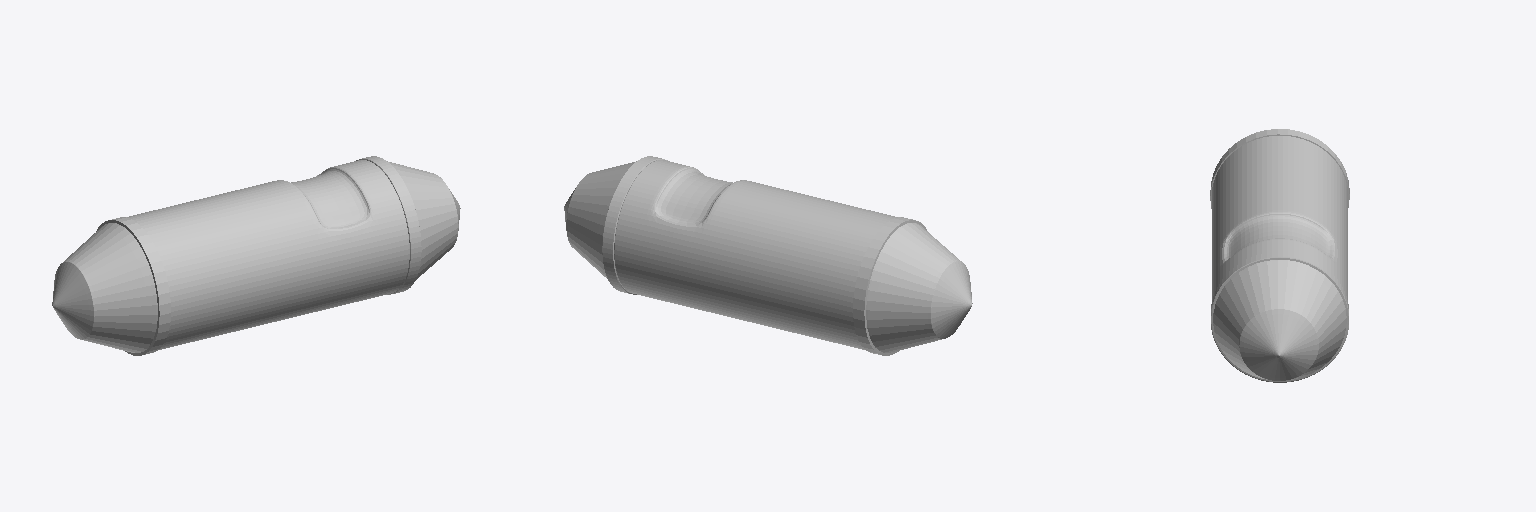
The model's file is pencil-04.obj.
3 views of the same model, side by side, from view 1: azimuth 30°, elevation 25°; view 2: azimuth 150°, elevation 25°; view 3: azimuth 270°, elevation 25° (orthographic).
Visible parts, largest first — view 1: pencil_round_track_smooth pencil_body, pencil_round_track_smooth pencil_eraser, pencil_tip pencil_round_track_smooth, pencil_round_track_smooth pencil_ring2, pencil_round_track_smooth pencil_ring1; view 2: pencil_round_track_smooth pencil_body, pencil_round_track_smooth pencil_eraser, pencil_tip pencil_round_track_smooth, pencil_round_track_smooth pencil_ring2, pencil_round_track_smooth pencil_ring1; view 3: pencil_round_track_smooth pencil_body, pencil_tip pencil_round_track_smooth, pencil_round_track_smooth pencil_ring1, pencil_round_track_smooth pencil_ring2.
Part boxes in pixels (left/top/right/bottom): pencil_round_track_smooth pencil_body: left=127, top=160, right=409, bottom=349; pencil_round_track_smooth pencil_eraser: left=52, top=223, right=157, bottom=352; pencil_tip pencil_round_track_smooth: left=387, top=161, right=460, bottom=279; pencil_round_track_smooth pencil_ring2: left=96, top=217, right=170, bottom=355; pencil_round_track_smooth pencil_ring1: left=356, top=156, right=421, bottom=294; pencil_round_track_smooth pencil_body: left=614, top=160, right=897, bottom=349; pencil_round_track_smooth pencil_eraser: left=866, top=223, right=972, bottom=352; pencil_tip pencil_round_track_smooth: left=564, top=161, right=636, bottom=277; pencil_round_track_smooth pencil_ring2: left=853, top=217, right=926, bottom=355; pencil_round_track_smooth pencil_ring1: left=602, top=156, right=667, bottom=294; pencil_round_track_smooth pencil_body: left=1212, top=136, right=1347, bottom=299; pencil_tip pencil_round_track_smooth: left=1213, top=260, right=1346, bottom=380; pencil_round_track_smooth pencil_ring1: left=1211, top=252, right=1348, bottom=382; pencil_round_track_smooth pencil_ring2: left=1210, top=129, right=1349, bottom=208.
Bounding box in the file's own units: 0.215 × 0.0636 × 0.0636.